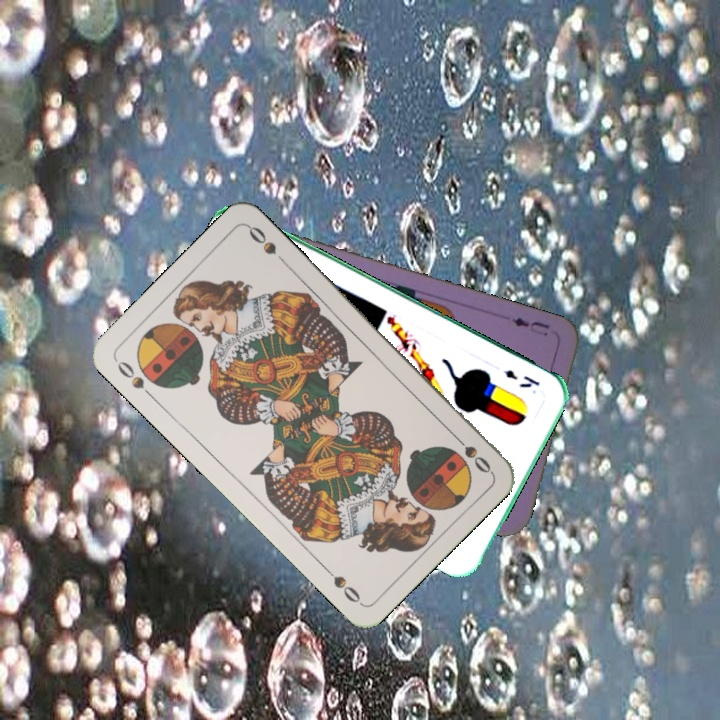EK: (500, 365, 543, 391)
EU: (508, 313, 553, 332)
SO: (448, 429, 494, 476), (111, 356, 157, 402)
